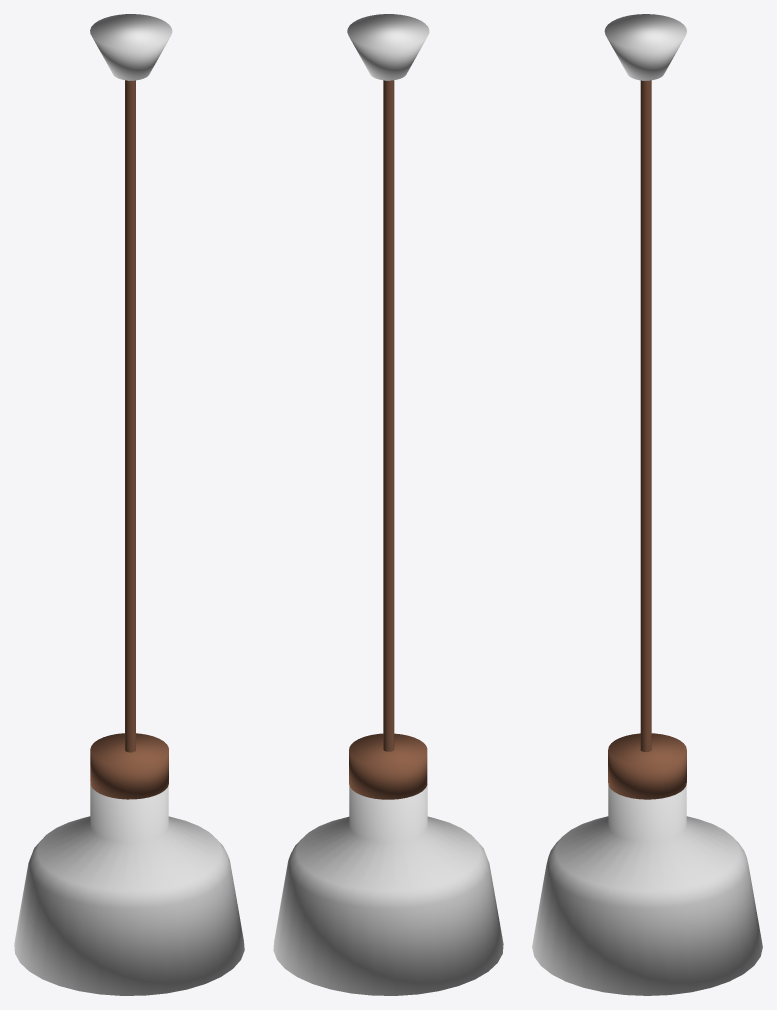
File: ceiling_lamp4.fbx
3 views of the same model, side by side, from view 1: azimuth 30°, elevation 25°; view 2: azimuth 150°, elevation 25°; view 3: azimuth 270°, elevation 25° (orthographic).
Visible parts, largest first — view 1: valaisin, johto, valaisin_yläosa, kattokuppi; view 2: valaisin, johto, valaisin_yläosa, kattokuppi; view 3: valaisin, johto, valaisin_yläosa, kattokuppi.
Part boxes in pixels (x1,y1,x2,y2): valaisin: (14, 783, 244, 995); johto: (125, 80, 135, 752); valaisin_yläosa: (90, 733, 168, 799); kattokuppi: (90, 14, 172, 80); valaisin: (273, 783, 503, 995); johto: (383, 80, 394, 751); valaisin_yläosa: (349, 733, 427, 799); kattokuppi: (347, 14, 429, 80); valaisin: (532, 785, 762, 995); johto: (640, 80, 651, 751); valaisin_yläosa: (608, 733, 686, 799); kattokuppi: (604, 14, 686, 80).
Size of the model in its own units: 22.21 by 97.25 by 22.21.
